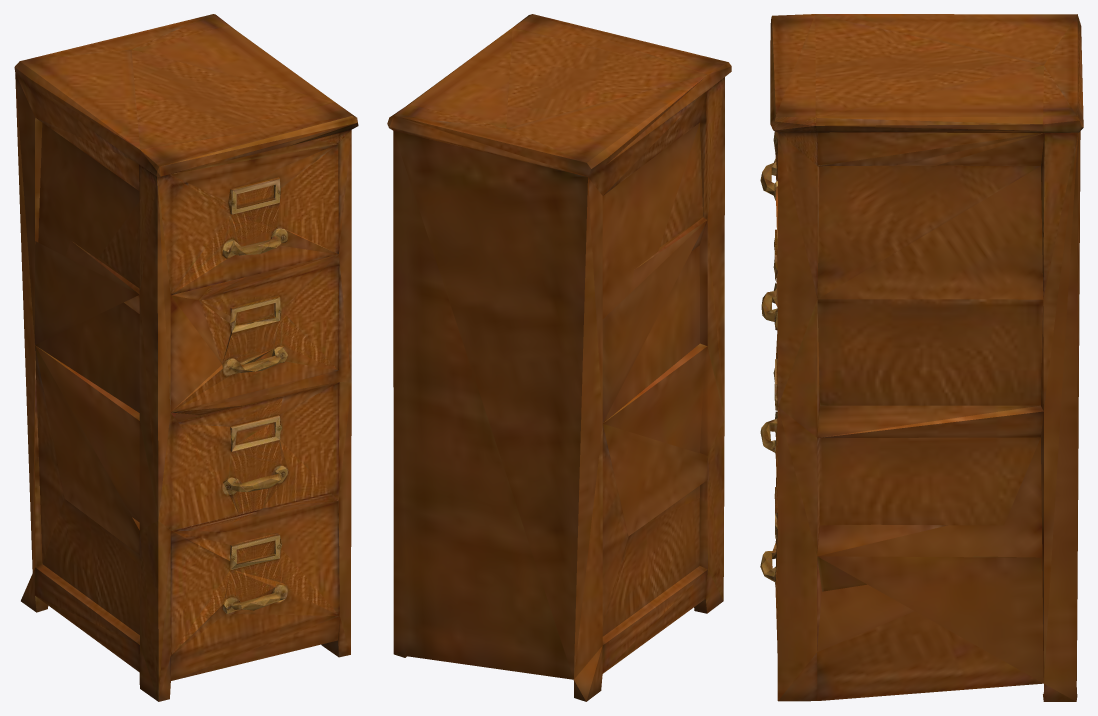
Rendered from filecab.glb.
The picture shows the model from 3 angles, left to right: view 1: azimuth 30°, elevation 25°; view 2: azimuth 150°, elevation 25°; view 3: azimuth 270°, elevation 25°; orthographic projection. The views are drawn at different scales.
Visible parts, largest first — view 1: Mesh_0; view 2: Mesh_0; view 3: Mesh_0.
Boxes of the visible parts, left/top/right/bottom form: Mesh_0: left=14, top=14, right=358, bottom=701; Mesh_0: left=387, top=14, right=731, bottom=701; Mesh_0: left=760, top=14, right=1083, bottom=701.
Bounding box in the file's own units: 0.7517 × 1.9 × 0.9511.
Materials: 1 (1 with a texture image).
